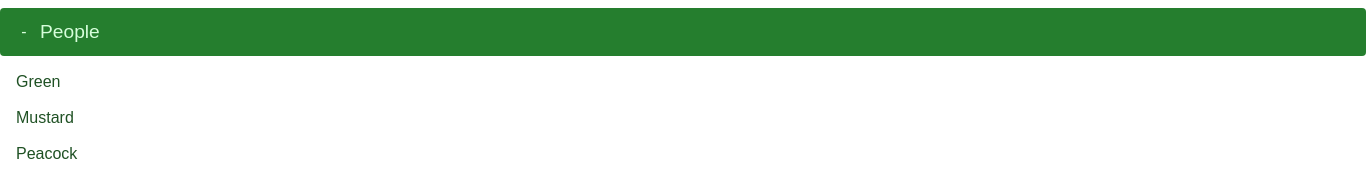
Category › reorders the suspects based upon their cleared status when clicked in an awkward order
This screenshot has width=1366, height=179.
Click the list item "Green".
click(38, 82)  # box 16,73 -> 60,90
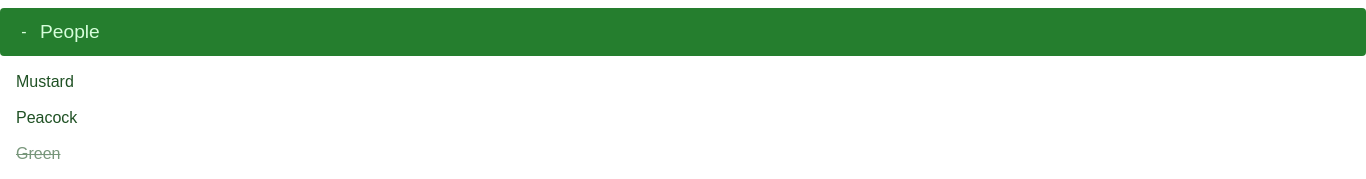
Click the list item "Mustard".
click(45, 82)  # box 16,73 -> 74,90
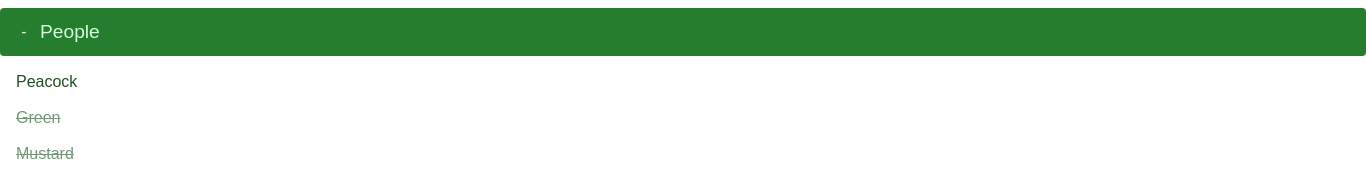
# React creates new Elements, so we have to get the new references
Click the list item "Green".
click(38, 118)  # box 16,109 -> 60,126
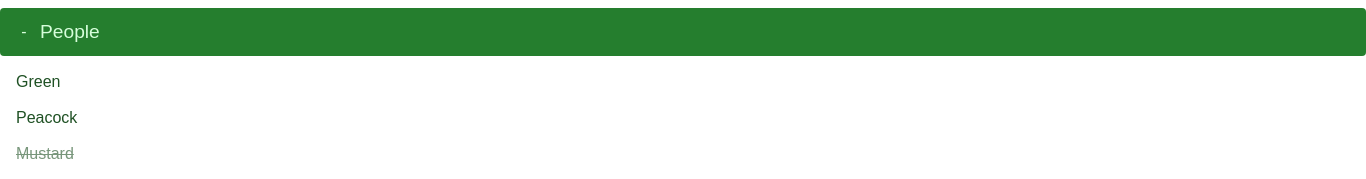
Click the list item "Mustard".
click(45, 154)  # box 16,145 -> 74,162
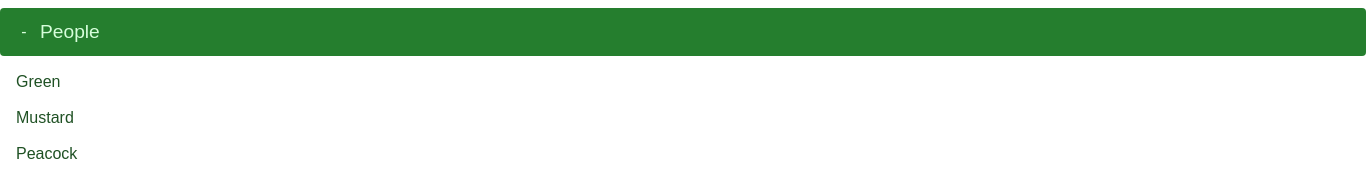
Result: the elements with test id "suspect" read "Green", "Mustard", "Peacock", in this order at 16,73 -> 60,90; 16,109 -> 74,126; 16,145 -> 77,162
